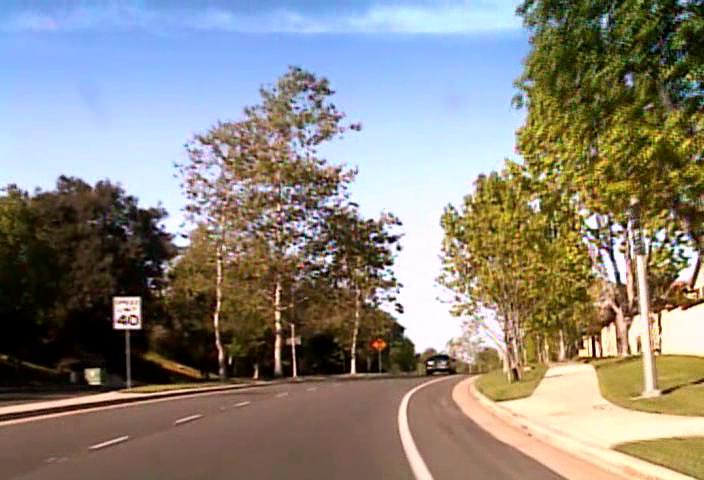speedLimit40: (112, 295, 141, 329)
